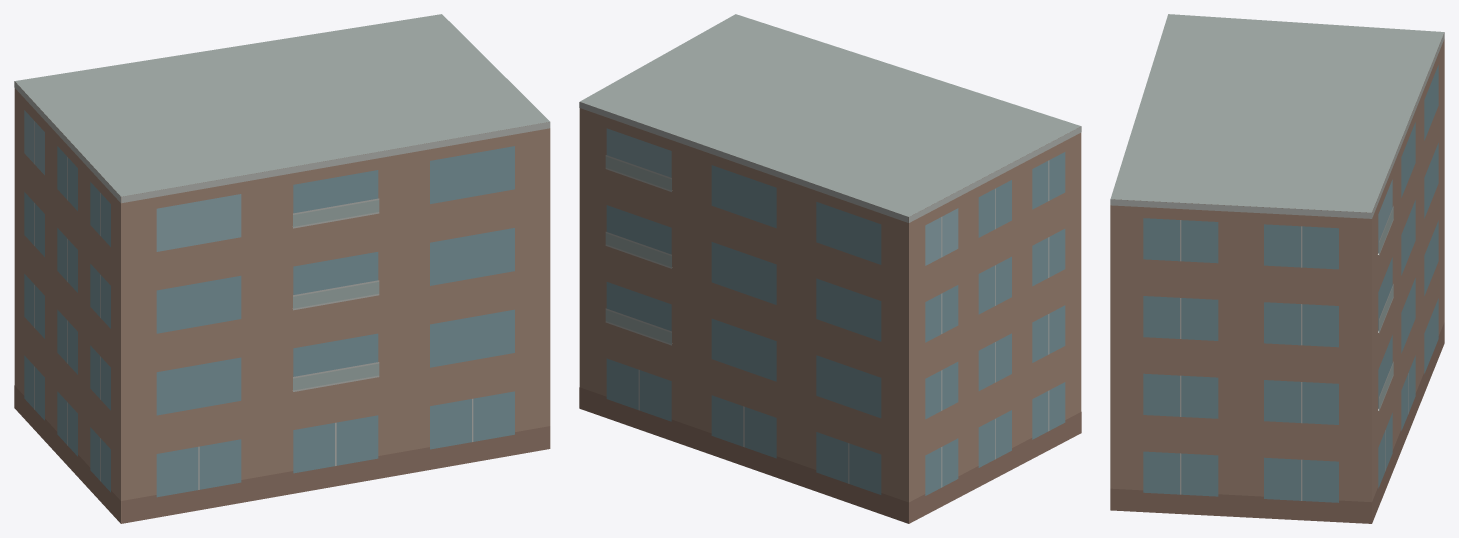
File: survey-upis-32640369.glb
3 views of the same model, side by side, from view 1: azimuth 30°, elevation 25°; view 2: azimuth 150°, elevation 25°; view 3: azimuth 270°, elevation 25° (orthographic). The views are drawn at different scales.
Parts seen in each view (by area): view 1: survey-upis-32640369.tmp; view 2: survey-upis-32640369.tmp; view 3: survey-upis-32640369.tmp.
Part boxes in pixels (x1=…): survey-upis-32640369.tmp: x1=14, y1=14, x2=550, y2=523; survey-upis-32640369.tmp: x1=579, y1=14, x2=1081, y2=523; survey-upis-32640369.tmp: x1=1110, y1=14, x2=1444, y2=523.
Bounding box in the file's own units: 16.72 × 12.2 × 11.88.
